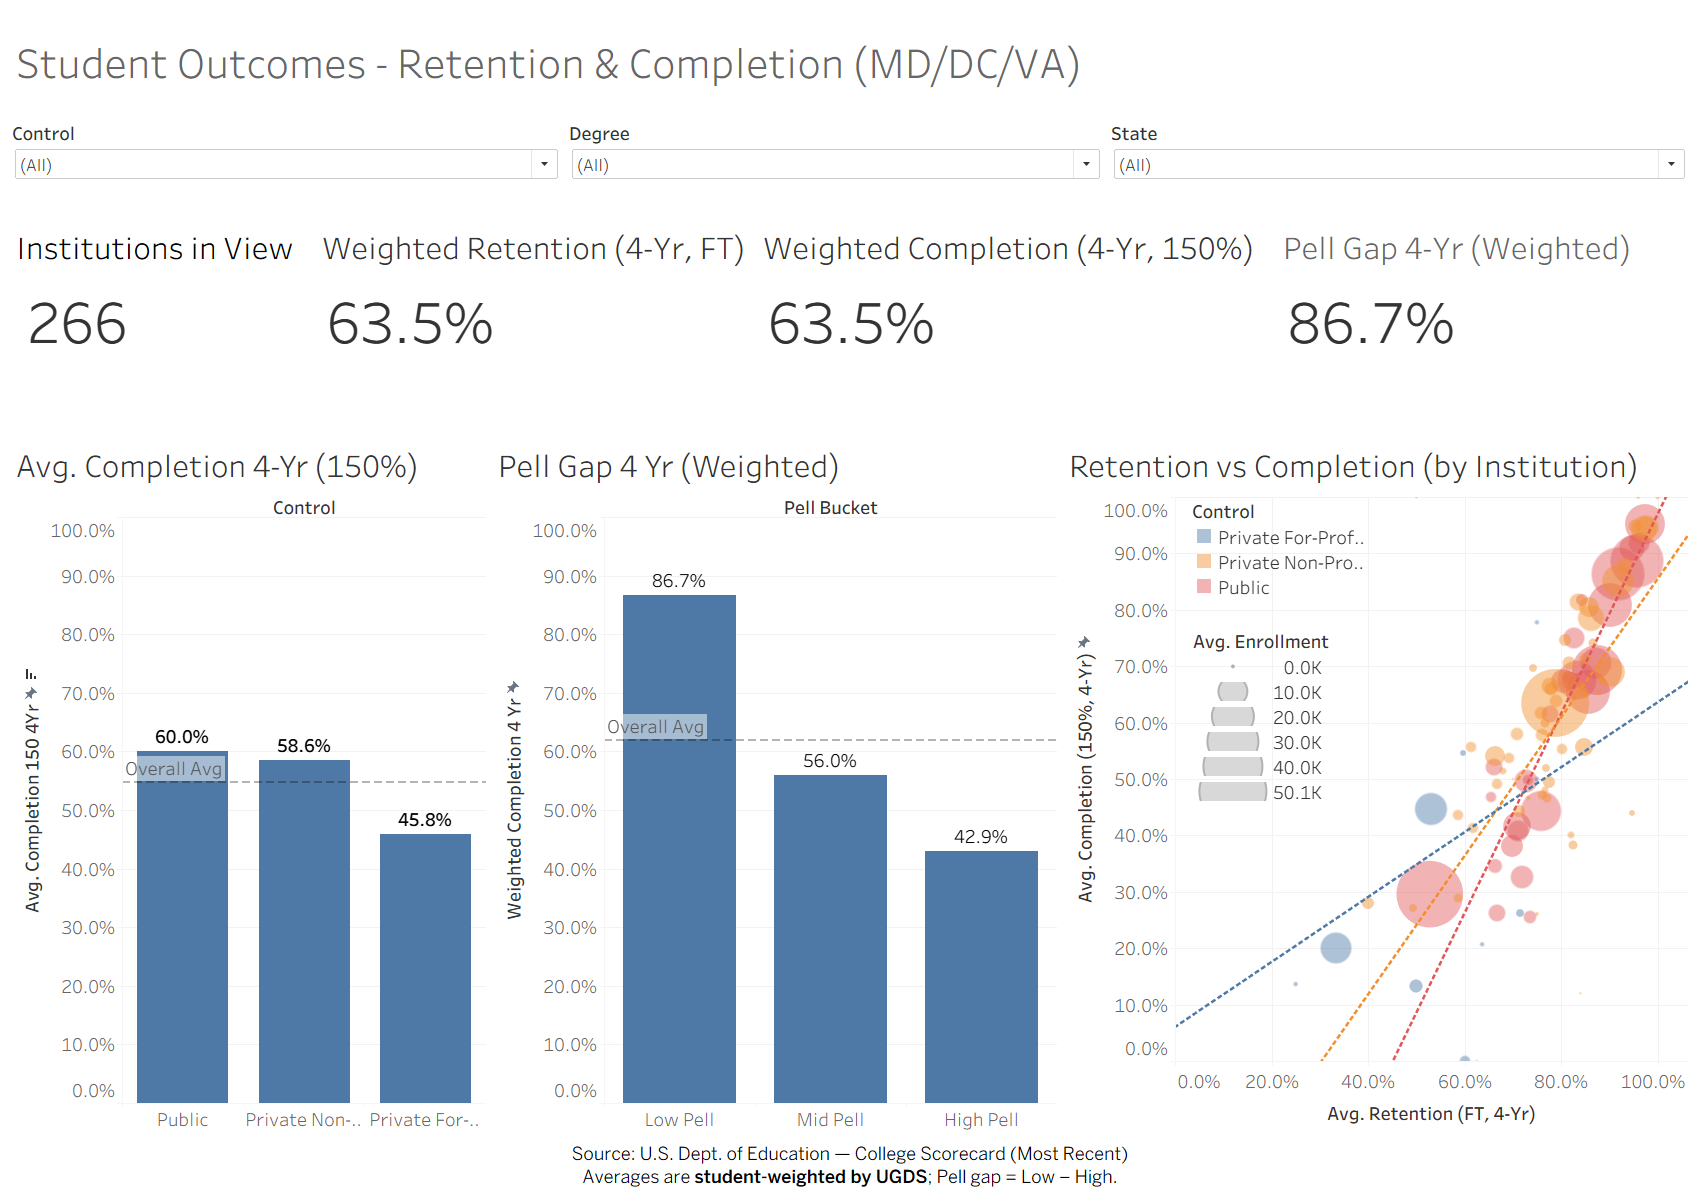

The dashboard page shown, as its layout file describes it:
{"tool":"tableau","page":{"name":"Overview","canvas":[1000,1000],"units":"permille","ordinal":1},"visuals":[{"type":"title","box":[4.7,6.7,990.6,90]},{"type":"filter","title":"Bar - Completion by Control","param":"[federated.1txu27m1cq8obf1bedxkq0pbirkx].[none:CONTROL:nk]","box":[4.7,96.7,327.9,83.5]},{"type":"filter","title":"Bar - Completion by Control","param":"[federated.1txu27m1cq8obf1bedxkq0pbirkx].[none:PREDDEG:nk]","box":[332.6,96.7,318.8,83.5]},{"type":"filter","title":"Bar - Completion by Control","param":"[federated.1txu27m1cq8obf1bedxkq0pbirkx].[none:STABBR:nk]","box":[651.4,96.7,343.9,83.5]},{"type":"text","box":[4.7,180.2,180,51.7]},{"type":"text","box":[184.7,180.2,259.4,51.7]},{"type":"text","box":[444.1,180.2,305.9,51.7]},{"type":"text","box":[750,180.2,245.3,51.7]},{"type":"worksheet","title":"KPI - Institutions","mark":"Automatic","box":[4.7,231.9,180,131.3]},{"type":"worksheet","title":"KPI - Weighted Retention","mark":"Automatic","box":[184.7,231.9,259.4,131.3]},{"type":"worksheet","title":"KPI - Weighted Completion","mark":"Automatic","box":[444.1,231.9,305.9,131.3]},{"type":"worksheet","title":"KPI - Weighted Pell Gap","mark":"Automatic","box":[750,231.9,245.3,131.3]},{"type":"worksheet","title":"Bar - Completion by Control","mark":"Automatic","rows":["COMPLETION_150_4YR"],"cols":["CONTROL"],"box":[4.7,363.2,283.5,583.5]},{"type":"worksheet","title":"Bar - Completion by Pell Bucket","mark":"Automatic","rows":["Calculation_751538234983706625"],"cols":["Calculation_751538234983964675"],"box":[288.2,363.2,335.9,583.5]},{"type":"worksheet","title":"Retention vs Completion (by Institution)","mark":"Circle","rows":["COMPLETION_150_4YR"],"cols":["RETENTION_FT_4YR"],"box":[624.1,363.2,371.2,583.5]},{"type":"legend","title":"Retention vs Completion (by Institution)","param":"[federated.1txu27m1cq8obf1bedxkq0pbirkx].[none:CONTROL:nk]","box":[701.2,415,104.1,84.2]},{"type":"legend","title":"Retention vs Completion (by Institution)","param":"[federated.1txu27m1cq8obf1bedxkq0pbirkx].[avg:UGDS:qk]","box":[701.8,523.3,91.8,150]},{"type":"text","box":[4.7,946.7,990.6,46.7]}]}

Visuals, with their boxes on the dashboard's canvas, which has no fixed pixel size, in thousandths of its width and height (x1, y1, x2, y2). These are canvas units, not pixel positions in the 1700x1200 screenshot, which may show the page scaled, cropped or inside an application window:
title: region(5, 7, 995, 97)
"Bar - Completion by Control" filter: region(5, 97, 333, 180)
"Bar - Completion by Control" filter: region(333, 97, 651, 180)
"Bar - Completion by Control" filter: region(651, 97, 995, 180)
text: region(5, 180, 185, 232)
text: region(185, 180, 444, 232)
text: region(444, 180, 750, 232)
text: region(750, 180, 995, 232)
"KPI - Institutions" worksheet: region(5, 232, 185, 363)
"KPI - Weighted Retention" worksheet: region(185, 232, 444, 363)
"KPI - Weighted Completion" worksheet: region(444, 232, 750, 363)
"KPI - Weighted Pell Gap" worksheet: region(750, 232, 995, 363)
"Bar - Completion by Control" worksheet: region(5, 363, 288, 947)
"Bar - Completion by Pell Bucket" worksheet: region(288, 363, 624, 947)
"Retention vs Completion (by Institution)" worksheet (Circle marks): region(624, 363, 995, 947)
"Retention vs Completion (by Institution)" legend: region(701, 415, 805, 499)
"Retention vs Completion (by Institution)" legend: region(702, 523, 794, 673)
text: region(5, 947, 995, 993)
